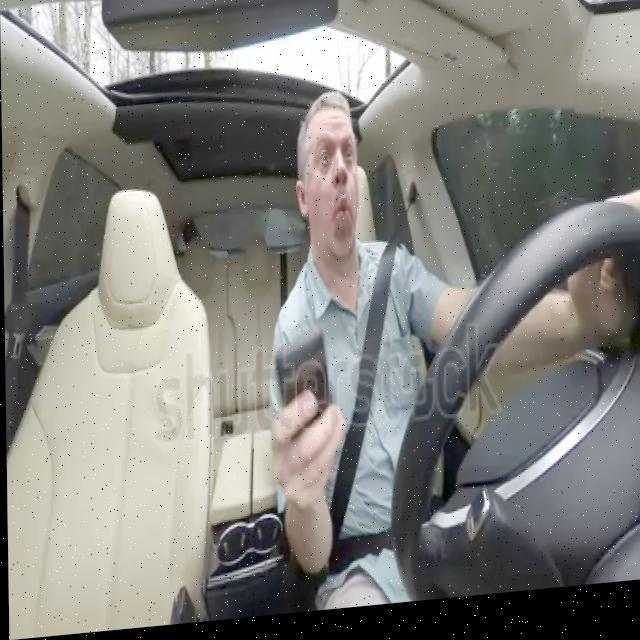PhoneCall: (272, 331, 334, 477)
